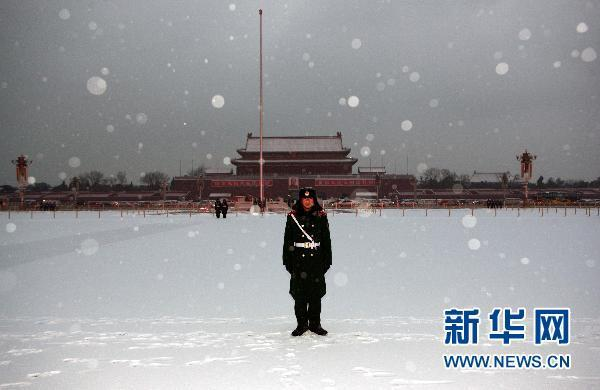up: (277, 183, 335, 339)
